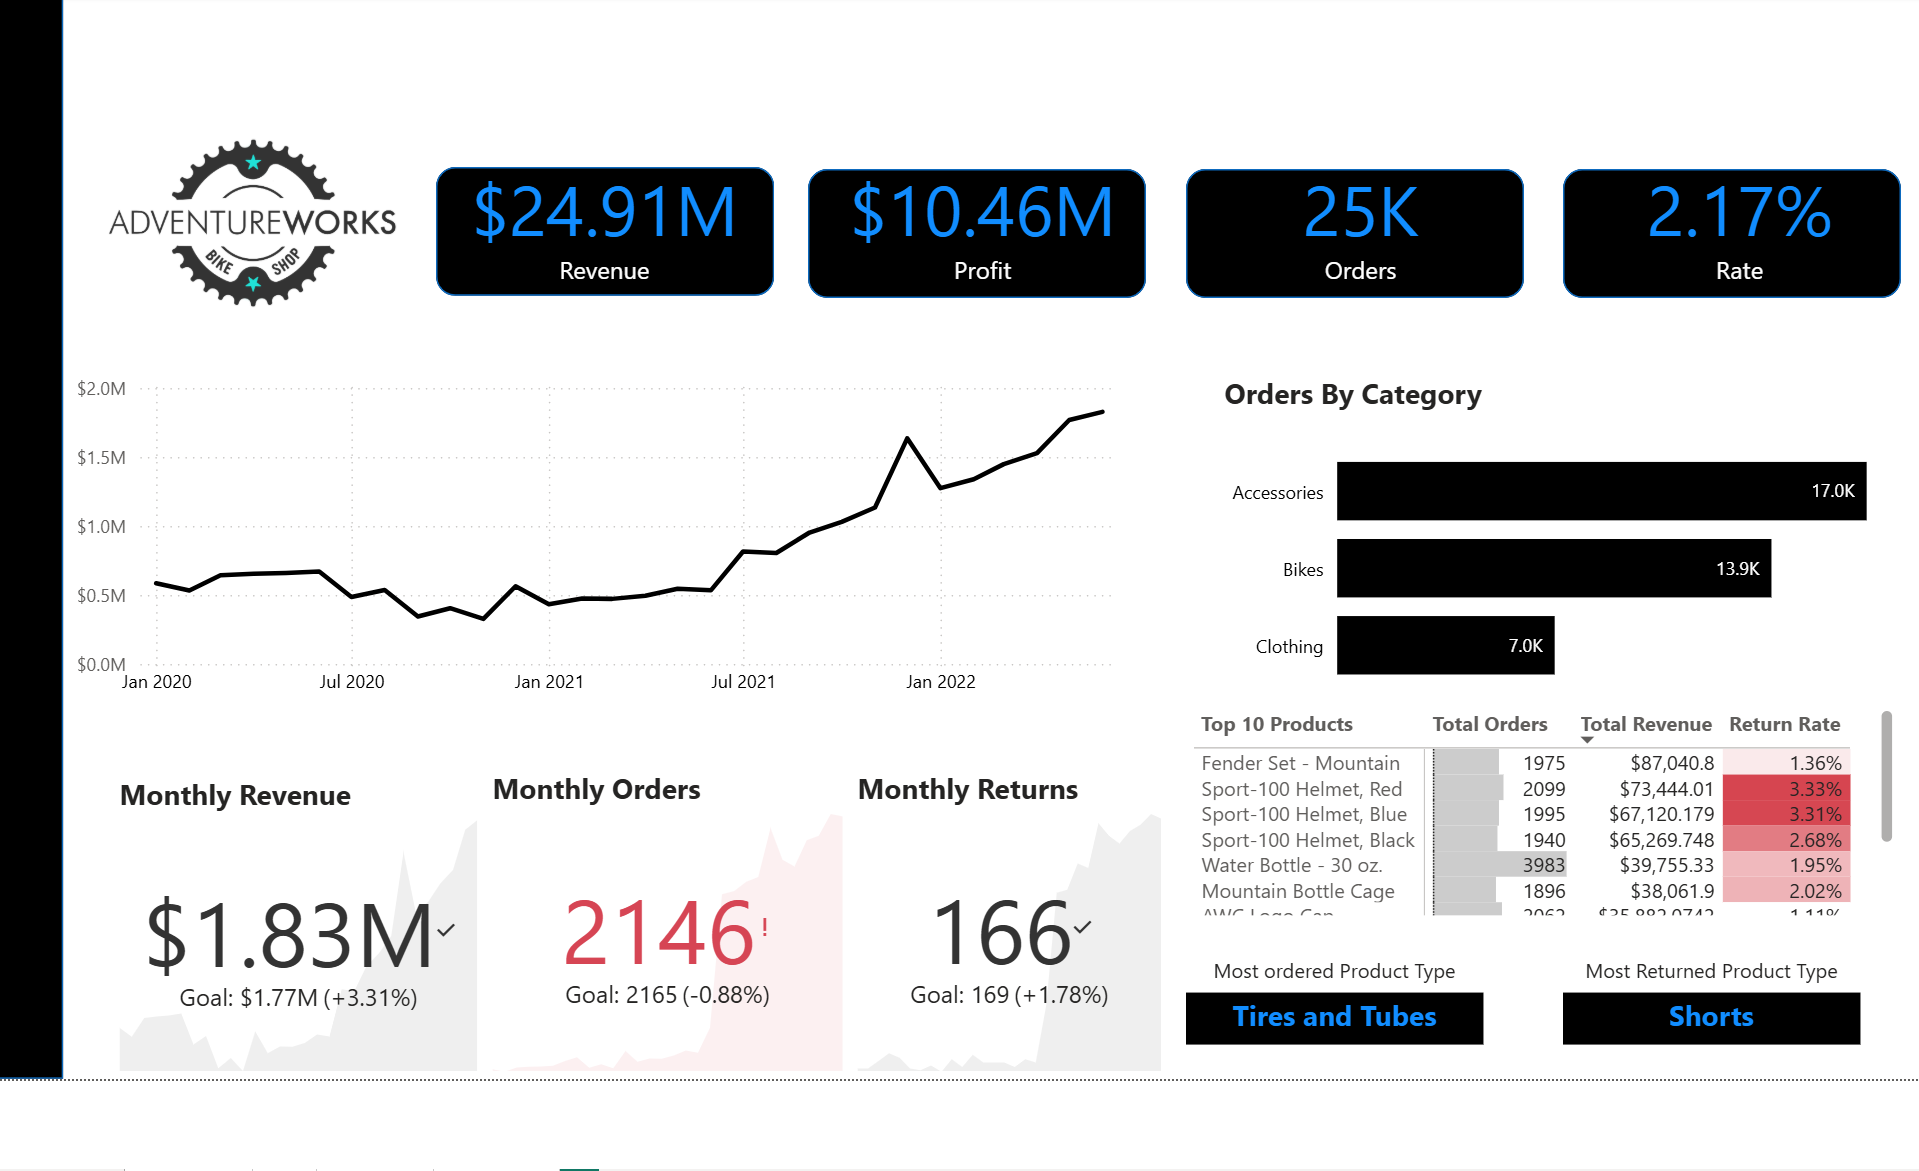

Layout of this report page (visuals, bound fields, positions):
{"tool":"powerbi","page":{"name":"Exec  Dashboard","canvas":[1280,720],"ordinal":0},"visuals":[{"type":"image","title":"AW Logo","box":[48.6,28,244.3,244.3],"z":0},{"type":"card","fields":{"Values":["Measure Table.Total Revenue"]},"box":[296.9,49.6,215.1,200.4],"z":0,"group":"g3"},{"type":"shape","box":[1042.8,114.1,225,85.9],"z":0,"group":"g2"},{"type":"shape","title":"Left Nav Background","box":[0,0,44.1,720.1],"z":1000},{"type":"card","fields":{"Values":["Measure Table.Return Rate"]},"box":[1052.2,49.6,215.1,200.4],"z":1000,"group":"g3"},{"type":"shape","box":[791.5,114.1,225,85.9],"z":1000,"group":"g2"},{"type":"group","id":"g1","title":"KPIs","box":[292.5,49.6,975.3,200.4],"z":2000},{"type":"card","fields":{"Values":["Measure Table.Total Orders"]},"box":[800.4,49.6,215.1,200.4],"z":2000,"group":"g3"},{"type":"group","id":"g2","title":"KPI Backgrounds","box":[292.5,112.9,975.3,87.1],"z":2000,"group":"g1"},{"type":"shape","box":[540.3,114.1,225,85.9],"z":2000,"group":"g2"},{"type":"group","id":"g3","title":"KPI Values","box":[296.9,49.6,970.4,200.4],"z":3000,"group":"g1"},{"type":"card","fields":{"Values":["Measure Table.Total Profit"]},"box":[548.7,49.6,215.1,200.4],"z":3000,"group":"g3"},{"type":"shape","box":[292.5,112.9,225.2,85.8],"z":3000,"group":"g2"},{"type":"lineChart","title":"Weekly Revenue","fields":{"Category":["Calendar Lookup.Year","Calendar Lookup.Start of Quarter","Calendar Lookup.Start of Month"],"Y":["Measure Table.Total Revenue"]},"box":[47.7,246.2,716.9,227.7],"z":3000},{"type":"kpi","title":"Monthly Returns","fields":{"Goal":["Measure Table.Previous Month Returns"],"Indicator":["Measure Table.Total Returns"],"TrendLine":["Calendar Lookup.Start of Month"]},"box":[568,513.6,212.4,206.5],"z":4000},{"type":"kpi","title":"Monthly Orders","fields":{"Goal":["Measure Table.Previous Month Orders"],"Indicator":["Measure Table.Total Orders"],"TrendLine":["Calendar Lookup.Start of Month"]},"box":[324.8,513.6,243.2,206.5],"z":5000},{"type":"kpi","title":"Monthly Revenue","fields":{"Goal":["Measure Table.Previous Month Revenue"],"Indicator":["Measure Table.Total Revenue"],"TrendLine":["Calendar Lookup.Start of Month"]},"box":[76.4,518,248.4,202.1],"z":6000},{"type":"clusteredBarChart","title":"Orders By Category","fields":{"Category":["Product Category Lookup.CategoryName"],"Y":["Measure Table.Total Orders"]},"box":[812.3,250.8,467.7,227.7],"z":7000},{"type":"pivotTable","fields":{"Rows":["Product Lookup.ProductName"],"Values":["Measure Table.Total Orders","Measure Table.Total Revenue","Measure Table.Return Rate"]},"box":[791.1,469.5,476.3,147.2],"z":8000},{"type":"group","id":"g4","title":"Group 1","box":[791.4,633.4,197.7,63.2],"z":9000},{"type":"card","fields":{"Values":["Min(Product Subcategories Lookup.SubcategoryName)"]},"box":[791.4,662.1,197.7,34.5],"z":9000,"group":"g4"},{"type":"card","fields":{"Values":["Min(Product Subcategories Lookup.SubcategoryName)"]},"box":[1042.7,662.1,197.7,34.5],"z":9000,"group":"g5"},{"type":"textbox","box":[791.4,633.4,197.7,28.7],"z":10000,"group":"g4"},{"type":"textbox","box":[1042.7,633.4,197.7,28.7],"z":10000,"group":"g5"},{"type":"group","id":"g5","title":"Group 1","box":[1042.7,633.4,197.7,63.2],"z":10000}]}

Visuals, with their boxes on the page's 1280x720 design canvas (x1, y1, x2, y2). These are canvas units, not pixel positions in the 1919x1171 screenshot, which may show the page scaled, cropped or inside an application window:
"AW Logo" image: box=[49, 28, 293, 272]
card - Measure Table.Total Revenue: box=[297, 50, 512, 250]
shape: box=[1043, 114, 1268, 200]
"Left Nav Background" shape: box=[0, 0, 44, 720]
card - Measure Table.Return Rate: box=[1052, 50, 1267, 250]
shape: box=[792, 114, 1016, 200]
"KPIs" group: box=[292, 50, 1268, 250]
card - Measure Table.Total Orders: box=[800, 50, 1016, 250]
"KPI Backgrounds" group: box=[292, 113, 1268, 200]
shape: box=[540, 114, 765, 200]
"KPI Values" group: box=[297, 50, 1267, 250]
card - Measure Table.Total Profit: box=[549, 50, 764, 250]
shape: box=[292, 113, 518, 199]
"Weekly Revenue" lineChart: box=[48, 246, 765, 474]
"Monthly Returns" kpi: box=[568, 514, 780, 720]
"Monthly Orders" kpi: box=[325, 514, 568, 720]
"Monthly Revenue" kpi: box=[76, 518, 325, 720]
"Orders By Category" clusteredBarChart: box=[812, 251, 1280, 478]
pivotTable - Product Lookup.ProductName x Measure Table.Total Orders: box=[791, 470, 1267, 617]
"Group 1" group: box=[791, 633, 989, 697]
card - Min(Product Subcategories Lookup.SubcategoryName): box=[791, 662, 989, 697]
card - Min(Product Subcategories Lookup.SubcategoryName): box=[1043, 662, 1240, 697]
textbox: box=[791, 633, 989, 662]
textbox: box=[1043, 633, 1240, 662]
"Group 1" group: box=[1043, 633, 1240, 697]
